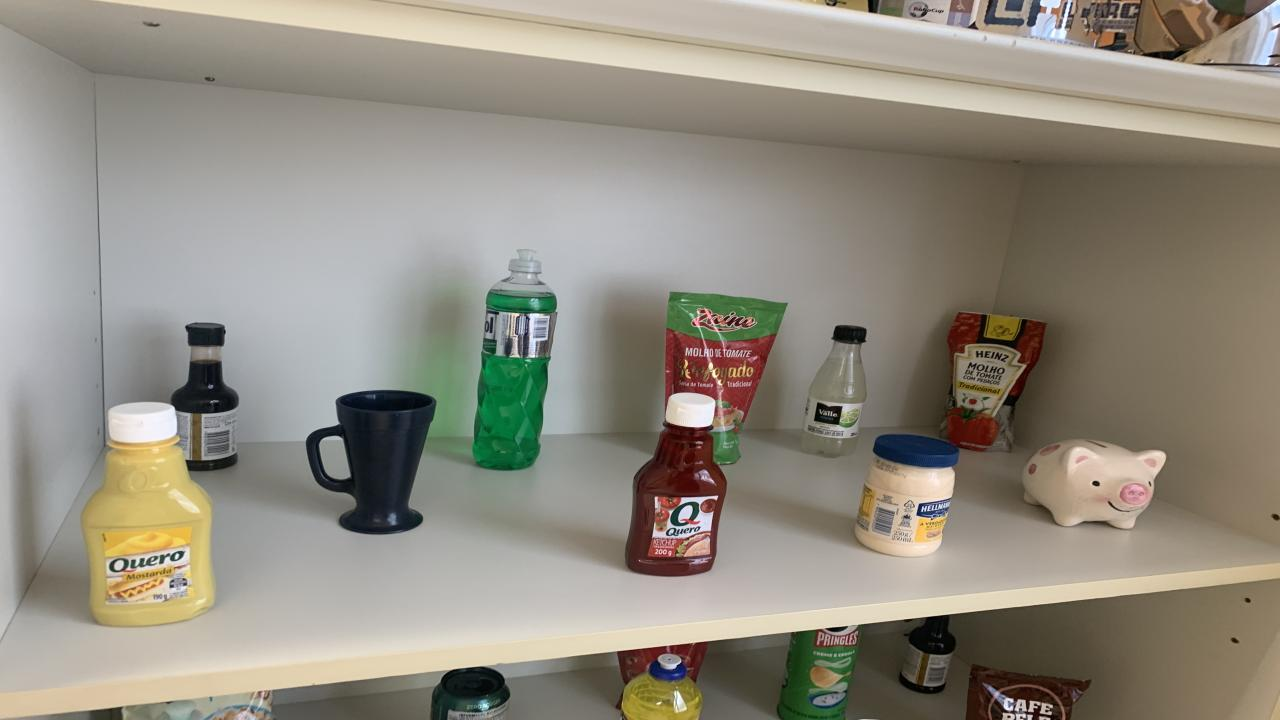Coffee-Pantry_Items: (965, 666, 1090, 720)
Detergent-Cleanup_Items: (472, 249, 558, 471), (622, 652, 702, 720)
English_Sauce-Pantry_Items: (170, 322, 240, 471), (900, 615, 955, 694), (618, 643, 708, 684)
Flakes-Snacks: (122, 690, 272, 720)
Guarana_Can-Drinks: (430, 668, 510, 720)
Ketchup-Pantry_Items: (625, 392, 728, 576)
Mayonnaise-Pantry_Items: (855, 435, 958, 557)
Mustard-Pantry_Items: (80, 401, 215, 626)
Pig_Safe-Miscellaneous: (1022, 439, 1165, 529)
Pringles-Snacks: (778, 624, 860, 720)
Soda-Drinks: (800, 324, 868, 458)
Tomato_Sauce-Pantry_Items: (665, 292, 788, 463), (940, 311, 1045, 452)
